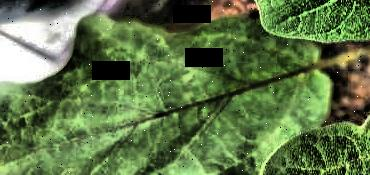HEALTHY: (0, 1, 370, 175)
